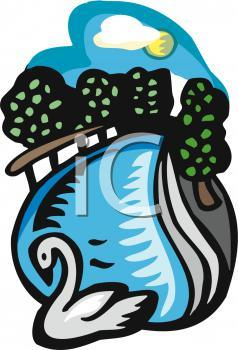bird: (25, 232, 158, 347)
